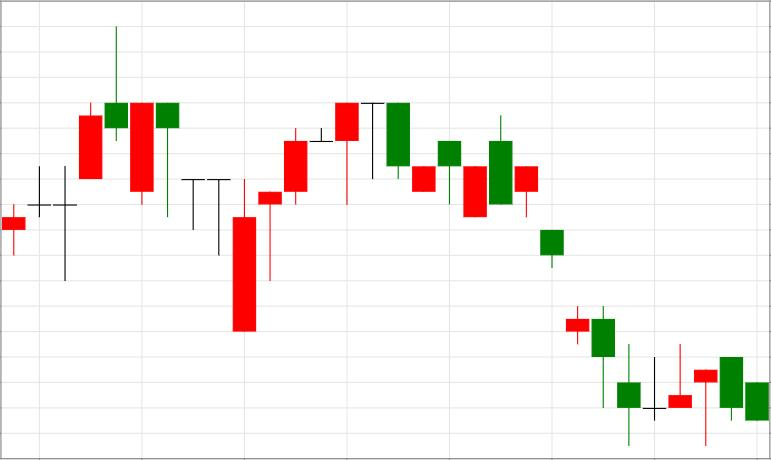evening_star_fall: (232, 102, 411, 332)
hanging_man_fall: (233, 102, 359, 332)
